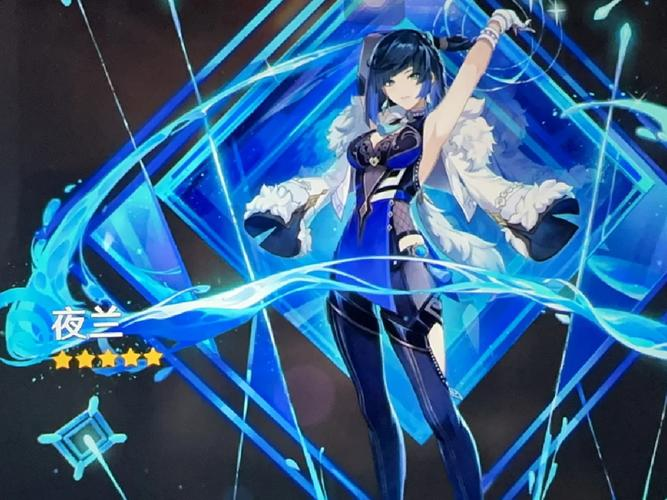夜兰: (318, 7, 535, 498)
